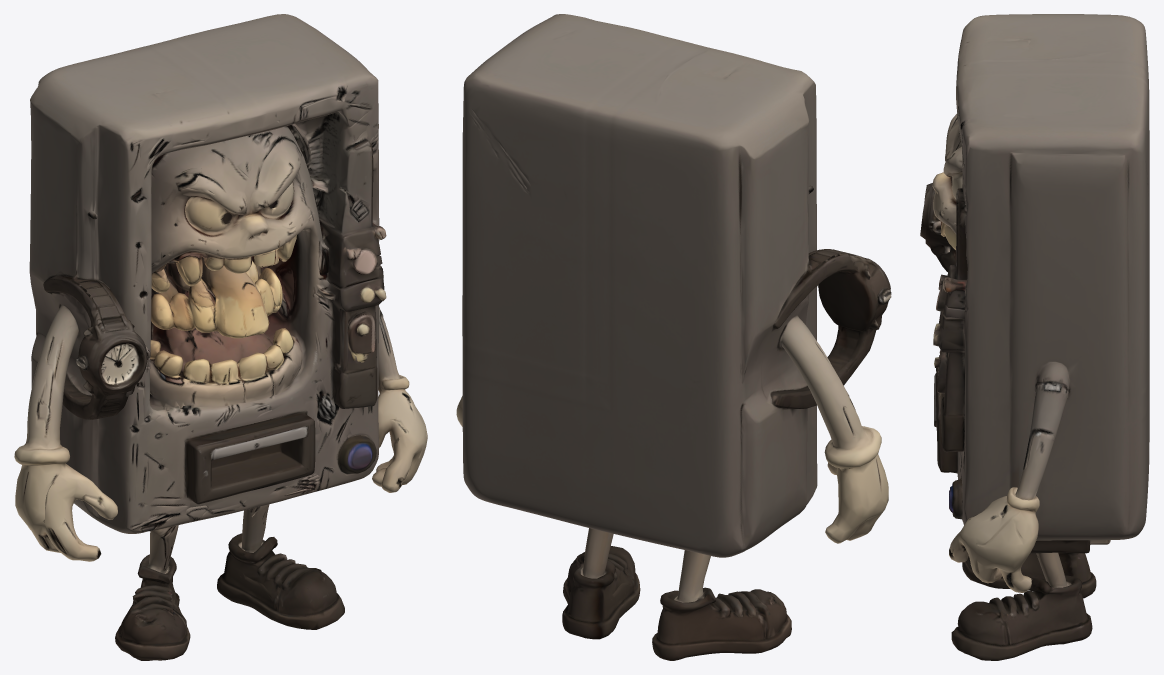
File: the_machine_that_ate_dave.glb
3 renders of one model, left to right at view 1: azimuth 30°, elevation 25°; view 2: azimuth 150°, elevation 25°; view 3: azimuth 270°, elevation 25°, orthographic. The views are drawn at different scales.
Visible parts, largest first — view 1: tripo_node_9720fa49-dcbf-4d3f-904a-1652ef4ad093; view 2: tripo_node_9720fa49-dcbf-4d3f-904a-1652ef4ad093; view 3: tripo_node_9720fa49-dcbf-4d3f-904a-1652ef4ad093.
Boxes of the visible parts, x1,y1,x2,y2 form: tripo_node_9720fa49-dcbf-4d3f-904a-1652ef4ad093: (14, 14, 427, 660); tripo_node_9720fa49-dcbf-4d3f-904a-1652ef4ad093: (456, 14, 891, 660); tripo_node_9720fa49-dcbf-4d3f-904a-1652ef4ad093: (920, 14, 1149, 660).
Bounding box in the file's own units: 0.7579 × 0.9817 × 0.3744.
1 material, 1 textured.
